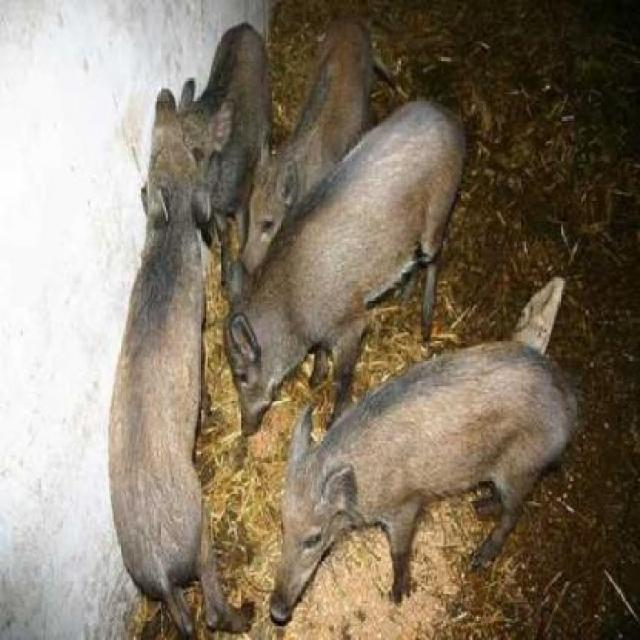pig: (263, 351, 580, 632), (205, 114, 474, 411), (112, 65, 211, 612), (237, 76, 345, 266)
